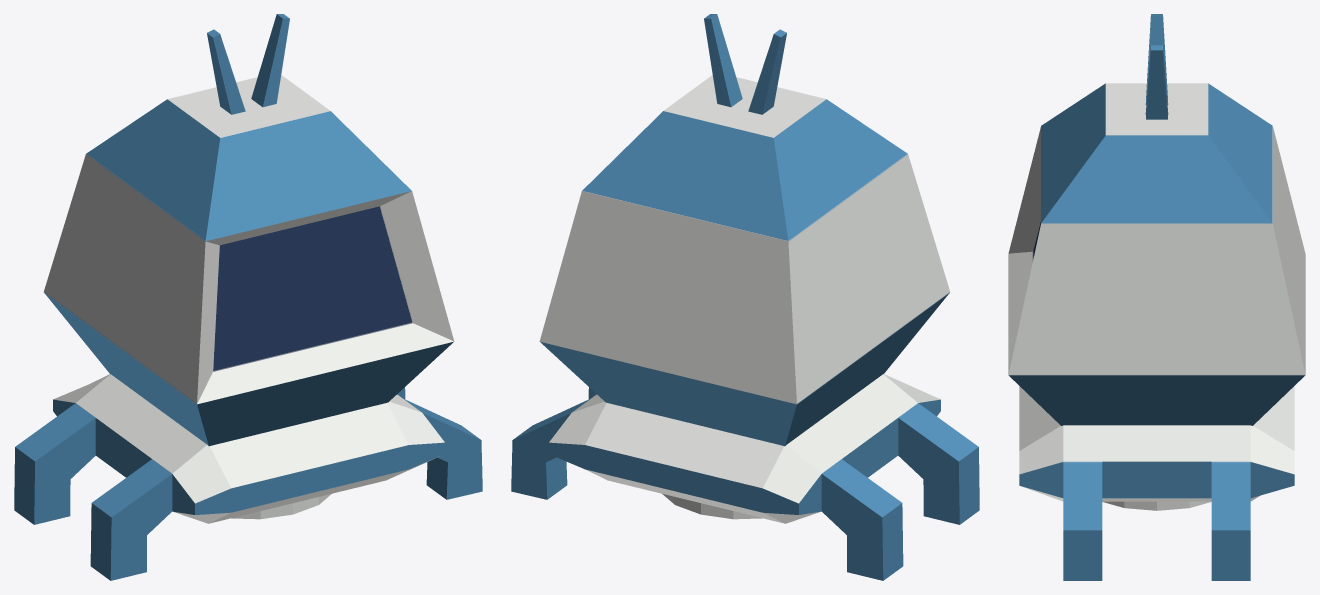
File: Rocket.fbx
3 views of the same model, side by side, from view 1: azimuth 30°, elevation 25°; view 2: azimuth 150°, elevation 25°; view 3: azimuth 270°, elevation 25° (orthographic). The views are drawn at different scales.
Parts seen in each view (by area): view 1: Body, Thruster, Antenna; view 2: Body, Thruster, Antenna; view 3: Body, Thruster, Antenna.
Boxes of the visible parts, <box> form: Body: <box>44,75,454,446</box>; Thruster: <box>14,374,482,580</box>; Antenna: <box>207,14,289,114</box>; Body: <box>539,75,949,446</box>; Thruster: <box>511,374,979,580</box>; Antenna: <box>704,14,786,114</box>; Body: <box>1008,83,1305,425</box>; Thruster: <box>1019,386,1294,580</box>; Antenna: <box>1145,14,1168,119</box>.
Bounding box in the file's own units: 180 × 220 × 128.
3 materials, 3 textured.
